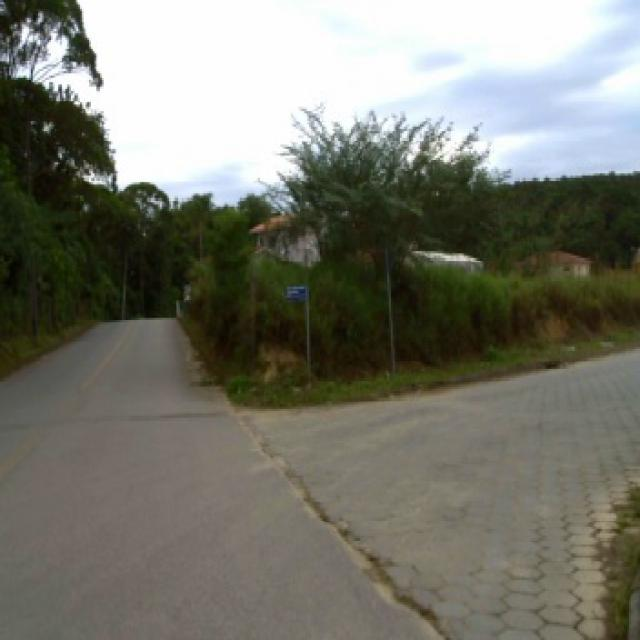Poth-hole: (256, 440, 454, 636), (12, 411, 224, 427), (540, 358, 560, 369)
